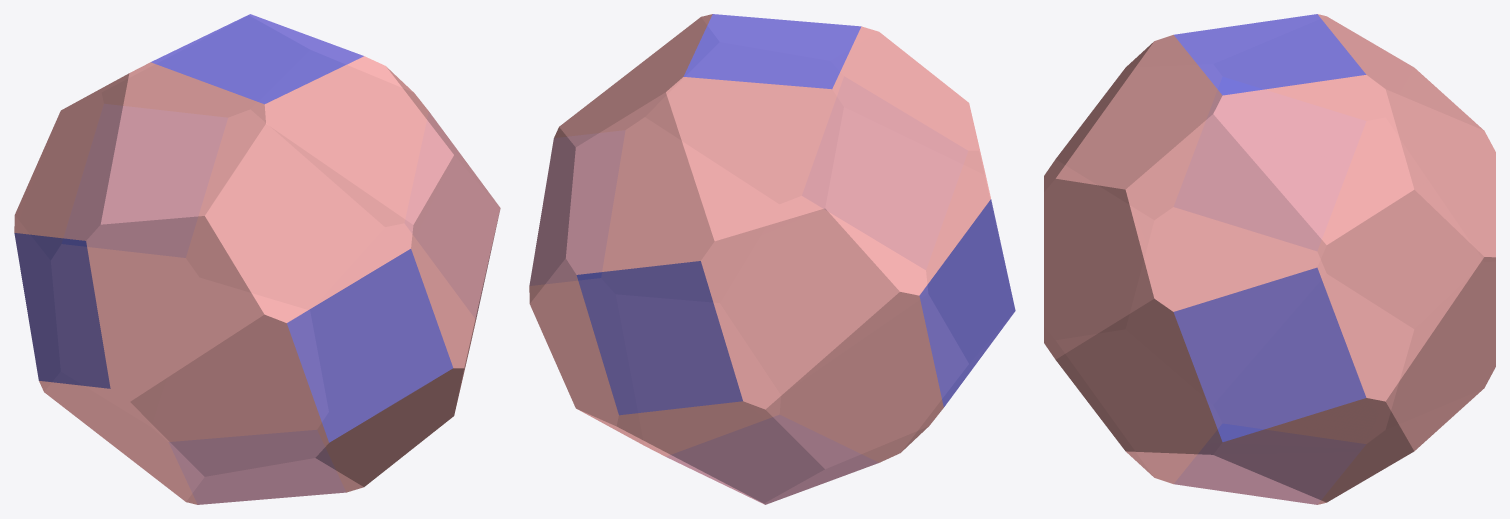
File: BiscribedHexpropelloCube.obj
The picture shows the model from 3 angles, left to right: view 1: azimuth 30°, elevation 25°; view 2: azimuth 150°, elevation 25°; view 3: azimuth 270°, elevation 25°; orthographic projection.
Bounding box in the file's own units: 2 × 2 × 2.
